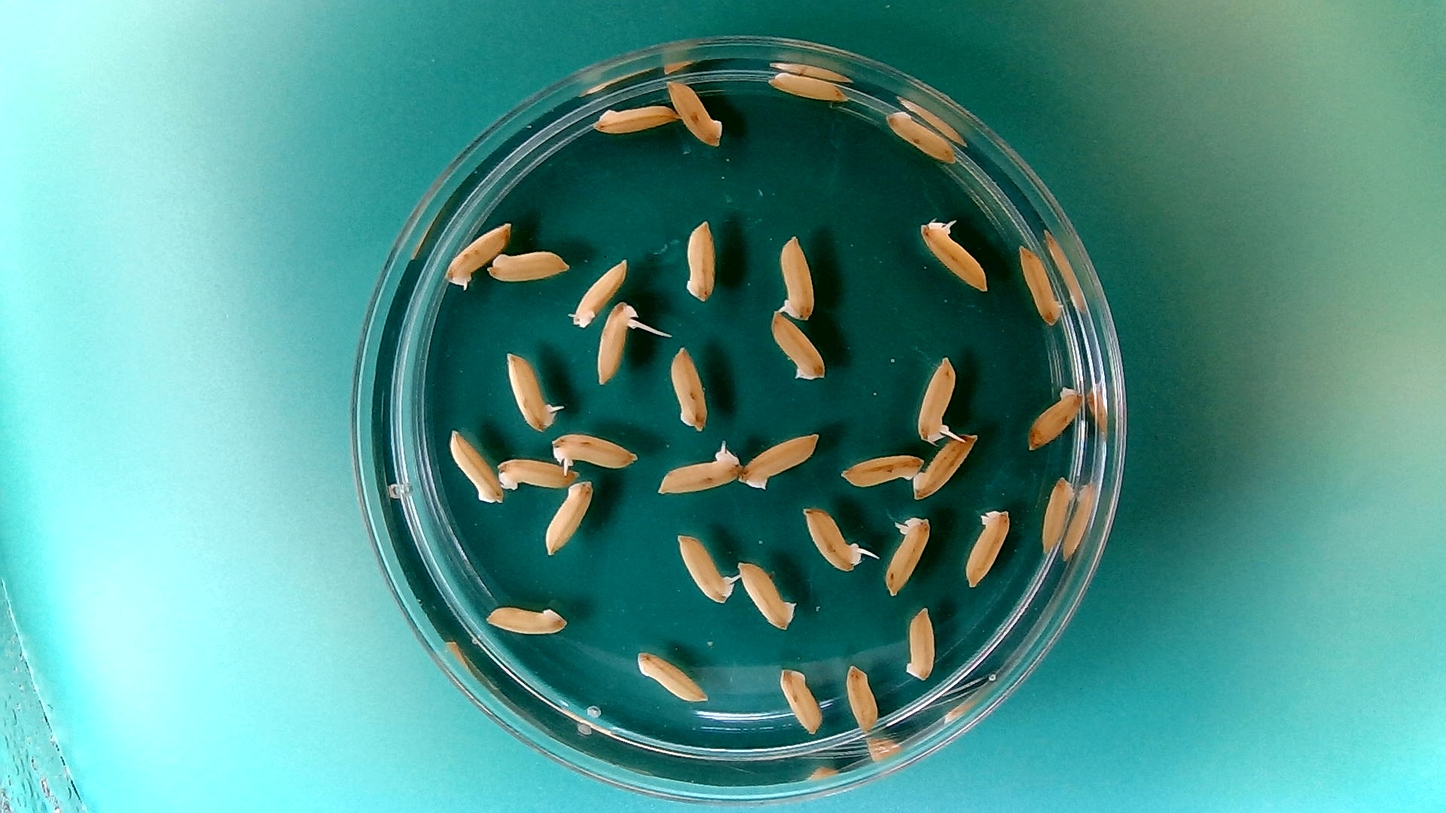no: (535, 475, 601, 562), (736, 428, 823, 492), (442, 217, 514, 289), (910, 428, 981, 501), (446, 424, 506, 509), (734, 556, 798, 632), (567, 254, 629, 329), (767, 309, 828, 385), (632, 646, 710, 705), (664, 75, 725, 150), (881, 105, 958, 164), (961, 504, 1014, 588), (1023, 380, 1084, 450), (1016, 242, 1065, 327), (667, 343, 709, 433), (775, 662, 826, 736), (589, 97, 682, 136), (481, 598, 569, 638), (836, 449, 924, 489), (494, 453, 579, 492), (681, 215, 718, 304), (486, 246, 572, 284), (764, 67, 850, 104), (1038, 472, 1076, 554), (901, 603, 938, 685), (841, 660, 880, 733)
yes: (915, 212, 991, 294), (649, 438, 743, 498), (673, 528, 740, 606), (798, 501, 869, 574), (503, 349, 564, 432), (880, 513, 934, 598), (914, 351, 960, 447), (593, 297, 642, 385), (548, 428, 642, 473), (774, 232, 817, 323)
